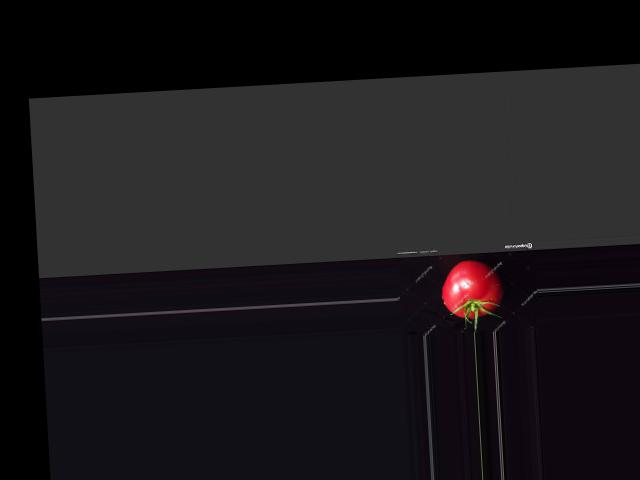tomato: (439, 258, 503, 319)
